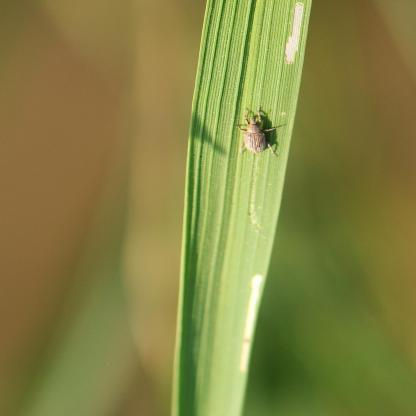rice-bug: (238, 106, 286, 156)
